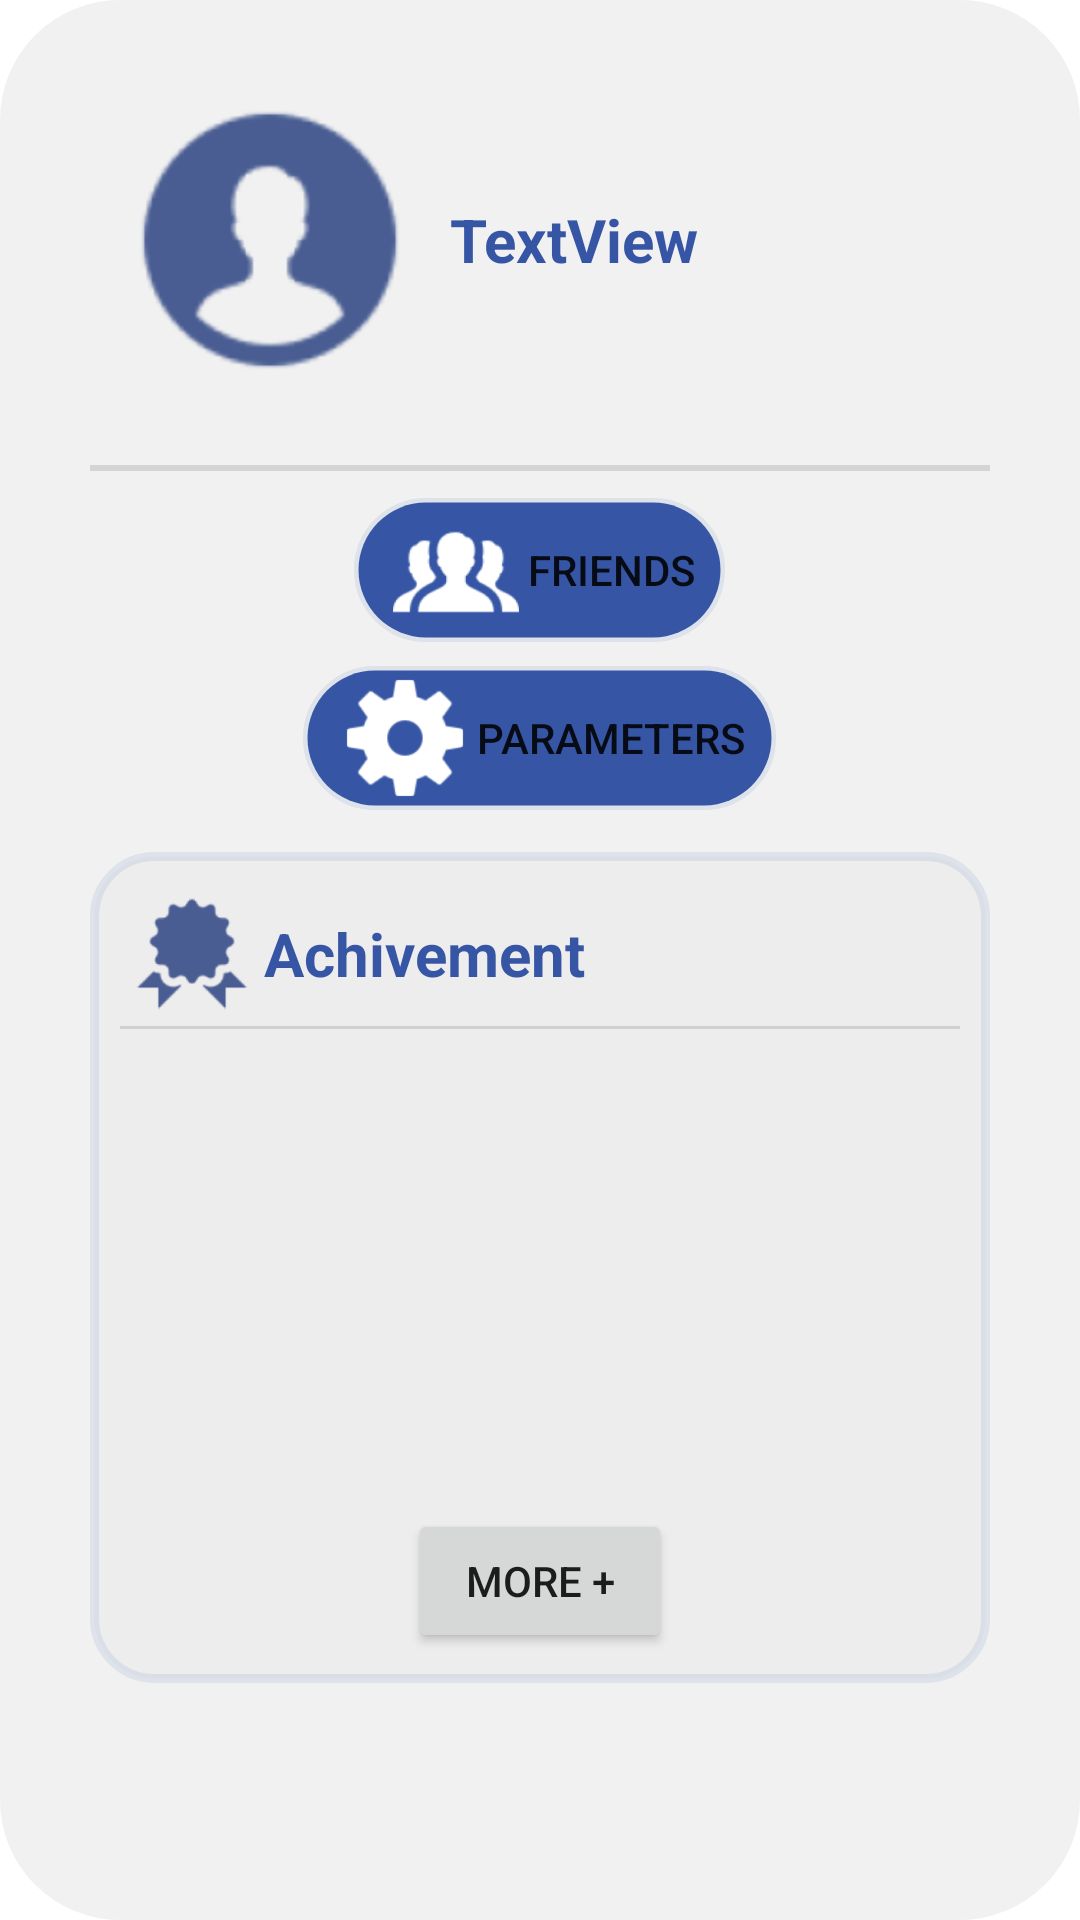

Icon click points for this 1080 × 1920 phone screenshot, format (x=x, y=y):
login username: (x=270, y=240)
